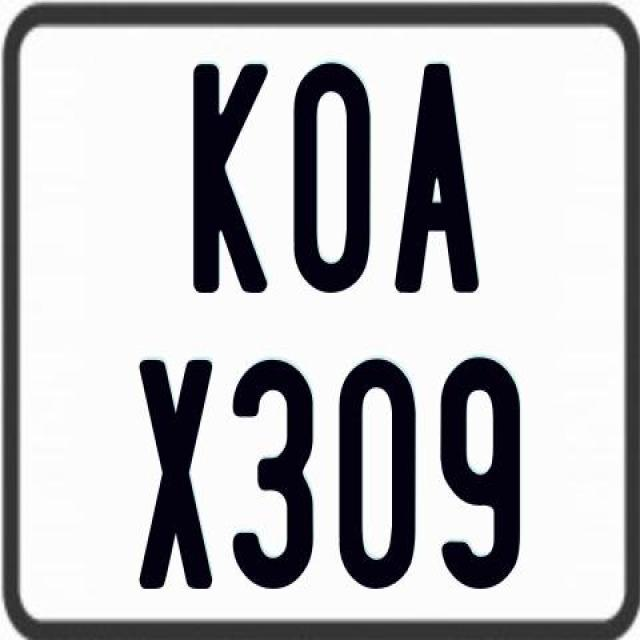0: (334, 355, 420, 586), (290, 61, 370, 294)
3: (233, 355, 316, 592)
9: (436, 357, 523, 596)
A: (392, 61, 483, 292)
K: (190, 61, 268, 292)
X: (136, 358, 213, 594)
